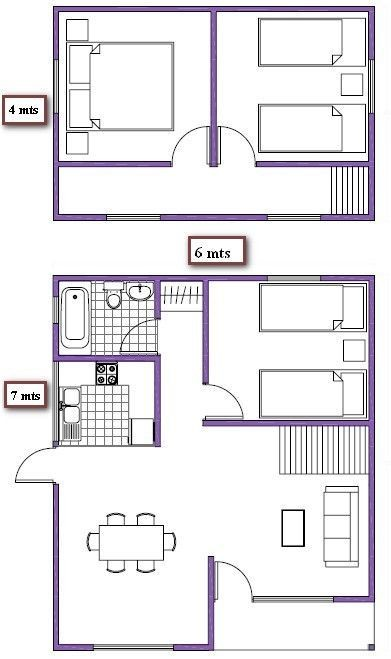door: (210, 551, 263, 605), (216, 114, 263, 173), (6, 443, 63, 488), (203, 373, 249, 425), (168, 119, 210, 168)
room: (58, 445, 381, 657), (56, 12, 375, 221), (53, 280, 378, 438)
wall: (51, 2, 378, 17), (365, 268, 377, 606), (51, 272, 266, 287), (48, 485, 64, 651), (199, 418, 377, 432), (207, 5, 222, 170), (57, 156, 171, 175), (159, 210, 268, 229), (252, 158, 377, 174), (199, 282, 215, 385), (52, 352, 161, 367), (50, 112, 63, 223), (151, 355, 167, 445), (206, 554, 219, 654), (317, 209, 376, 228), (318, 270, 378, 286), (53, 209, 106, 227), (48, 2, 63, 60), (364, 9, 378, 61), (335, 591, 377, 607), (169, 640, 217, 654), (152, 276, 166, 322), (50, 322, 65, 363), (49, 640, 95, 653)
window: (254, 590, 338, 607), (267, 207, 321, 231), (108, 208, 158, 228), (48, 58, 66, 113), (365, 61, 380, 113)
